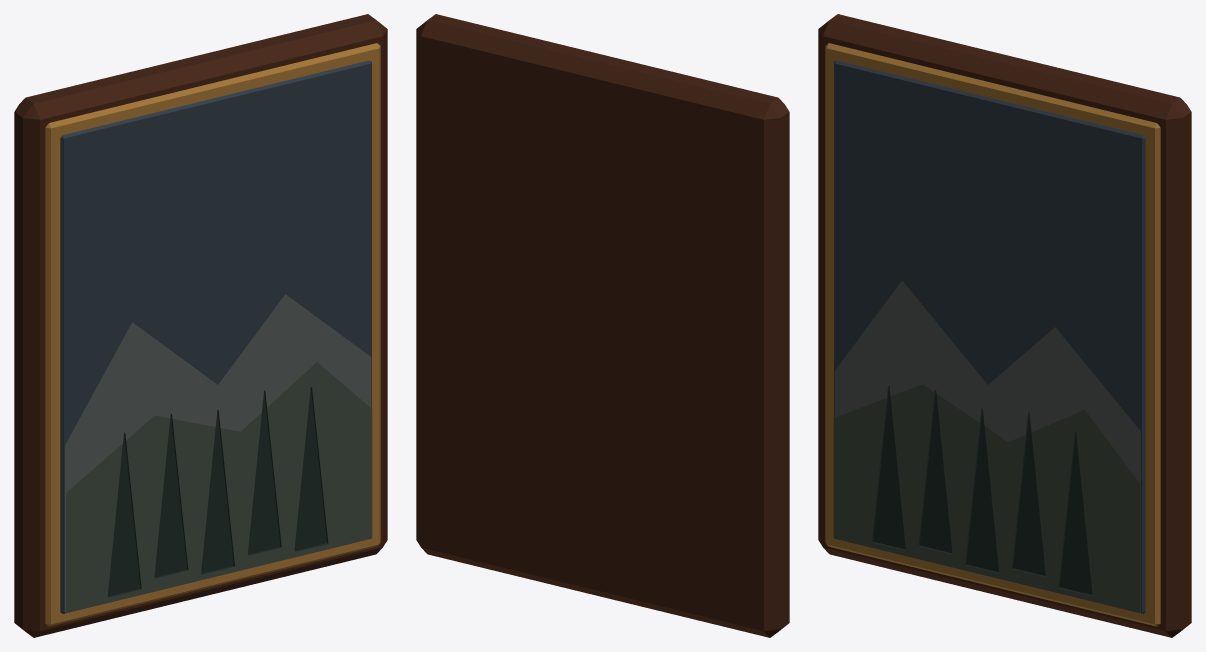
File: FramedWoodland.glb
The picture shows the model from 3 angles, left to right: view 1: azimuth 30°, elevation 25°; view 2: azimuth 150°, elevation 25°; view 3: azimuth 330°, elevation 25°; orthographic projection.
Visible parts, largest first — view 1: DuskCanvas.001, NearHills.001, OakPictureFrame.001, DistantHills.001, BrassLiner.001, TreeSilhouette.005, TreeSilhouette.009, TreeSilhouette.006, TreeSilhouette.008, TreeSilhouette.007; view 2: OakPictureFrame.001; view 3: DuskCanvas.001, NearHills.001, OakPictureFrame.001, DistantHills.001, BrassLiner.001, TreeSilhouette.006, TreeSilhouette.005, TreeSilhouette.009, TreeSilhouette.008, TreeSilhouette.007.
Part boxes in pixels (box(x1,y1,x2,y2)): DuskCanvas.001: box(60, 60, 371, 613); NearHills.001: box(66, 362, 372, 612); OakPictureFrame.001: box(14, 14, 387, 637); DistantHills.001: box(65, 294, 371, 612); BrassLiner.001: box(45, 43, 380, 626); TreeSilhouette.005: box(107, 432, 141, 597); TreeSilhouette.009: box(294, 387, 328, 551); TreeSilhouette.006: box(154, 413, 188, 578); TreeSilhouette.008: box(247, 390, 281, 555); TreeSilhouette.007: box(201, 410, 234, 574); OakPictureFrame.001: box(416, 14, 789, 637); DuskCanvas.001: box(834, 60, 1145, 613); NearHills.001: box(833, 384, 1139, 612); OakPictureFrame.001: box(818, 14, 1191, 637); DistantHills.001: box(834, 280, 1140, 612); BrassLiner.001: box(825, 43, 1160, 626); TreeSilhouette.006: box(918, 389, 952, 553); TreeSilhouette.005: box(871, 386, 905, 550); TreeSilhouette.009: box(1058, 431, 1092, 595); TreeSilhouette.008: box(1011, 412, 1045, 576); TreeSilhouette.007: box(965, 408, 998, 573).
Bounding box in the file's own units: 2 × 2.8 × 0.296.
